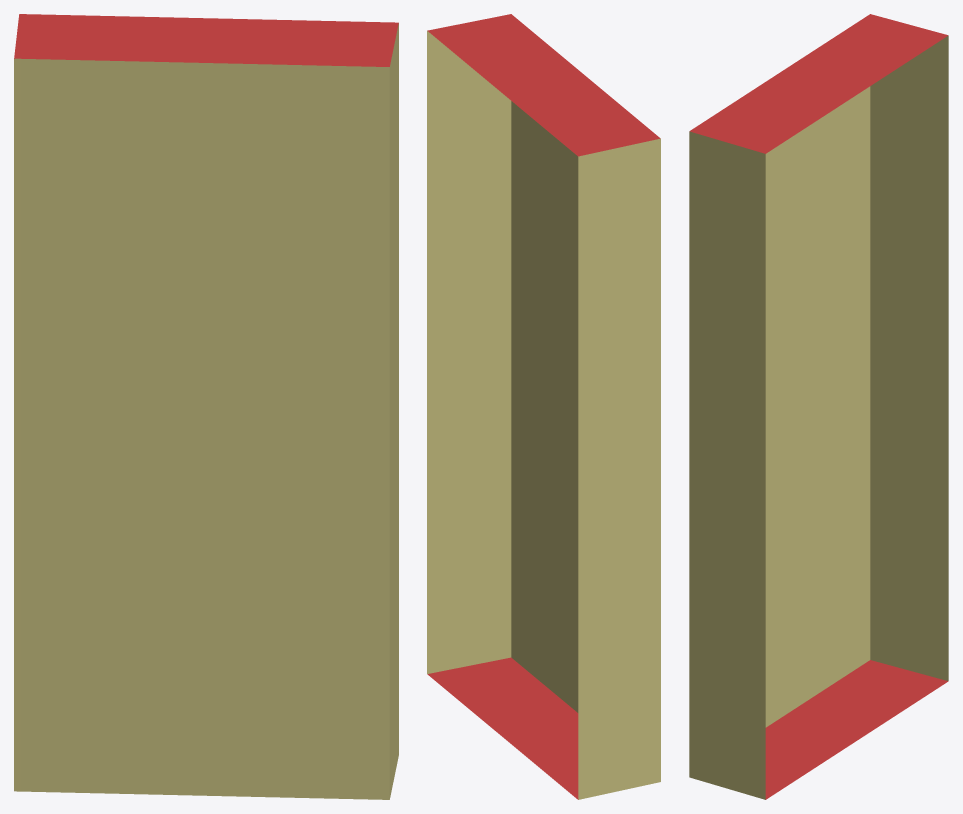
3 renders of one model, left to right at view 1: azimuth 30°, elevation 25°; view 2: azimuth 150°, elevation 25°; view 3: azimuth 270°, elevation 25°, orthographic. The views are drawn at different scales.
Visible parts, largest first — view 1: group_4, group_3; view 2: group_4, group_3, group_5; view 3: group_4, group_3, group_5.
Part boxes in pixels (<box>): group_4: <box>14,23,398,799</box>; group_3: <box>14,14,398,66</box>; group_4: <box>427,31,660,799</box>; group_3: <box>427,14,660,156</box>; group_5: <box>427,657,578,799</box>; group_4: <box>689,35,948,799</box>; group_3: <box>689,14,948,153</box>; group_5: <box>765,660,947,799</box>.
Bounding box in the file's own units: 7.75 × 6.07 × 16.68.
